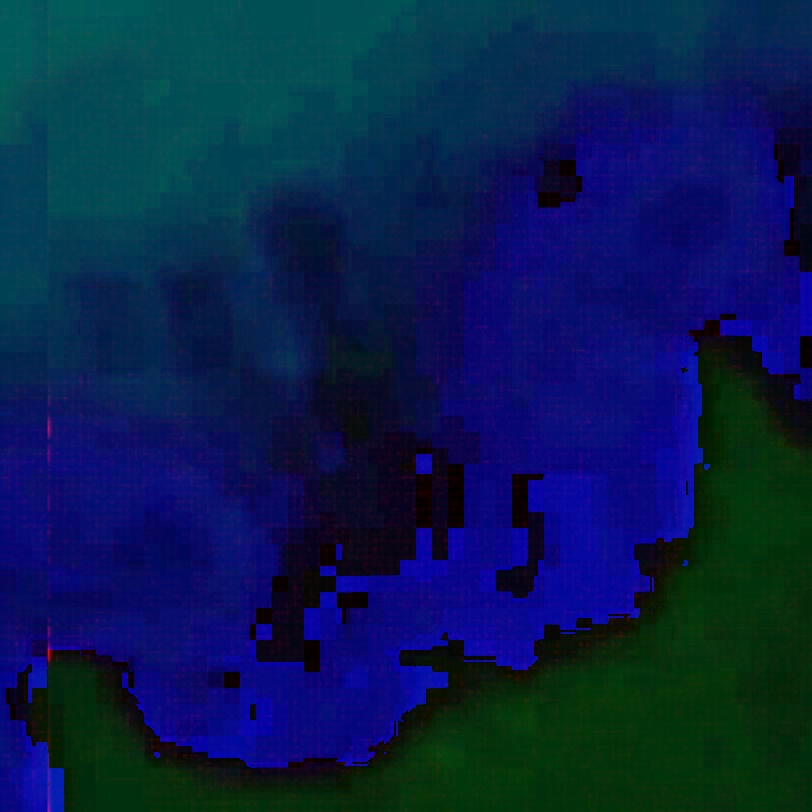rip_current: (114, 132, 538, 578)
